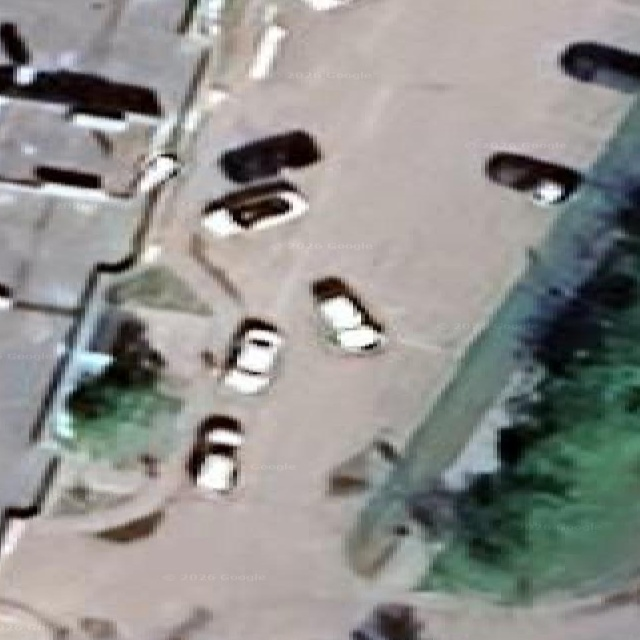car: (202, 181, 307, 237), (311, 277, 386, 352), (219, 130, 320, 183), (485, 152, 582, 206), (222, 318, 283, 394), (187, 415, 243, 493), (559, 42, 639, 92), (29, 165, 109, 200), (351, 602, 422, 639), (249, 23, 286, 79), (136, 153, 180, 193), (195, 0, 227, 36), (303, 0, 351, 10), (0, 282, 13, 309)
